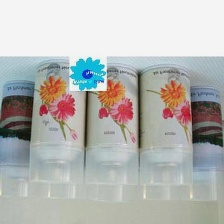aerosol_cans: (25, 56, 87, 186), (79, 61, 140, 187), (137, 59, 192, 190), (0, 78, 55, 204), (186, 84, 224, 207)
